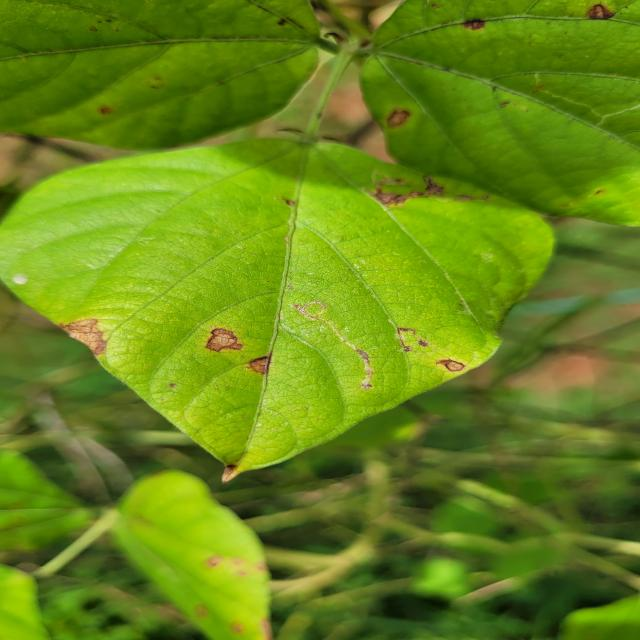Dolicos bean_cercospora leaf spot: (0, 135, 558, 486), (336, 0, 640, 232), (0, 0, 314, 142)
